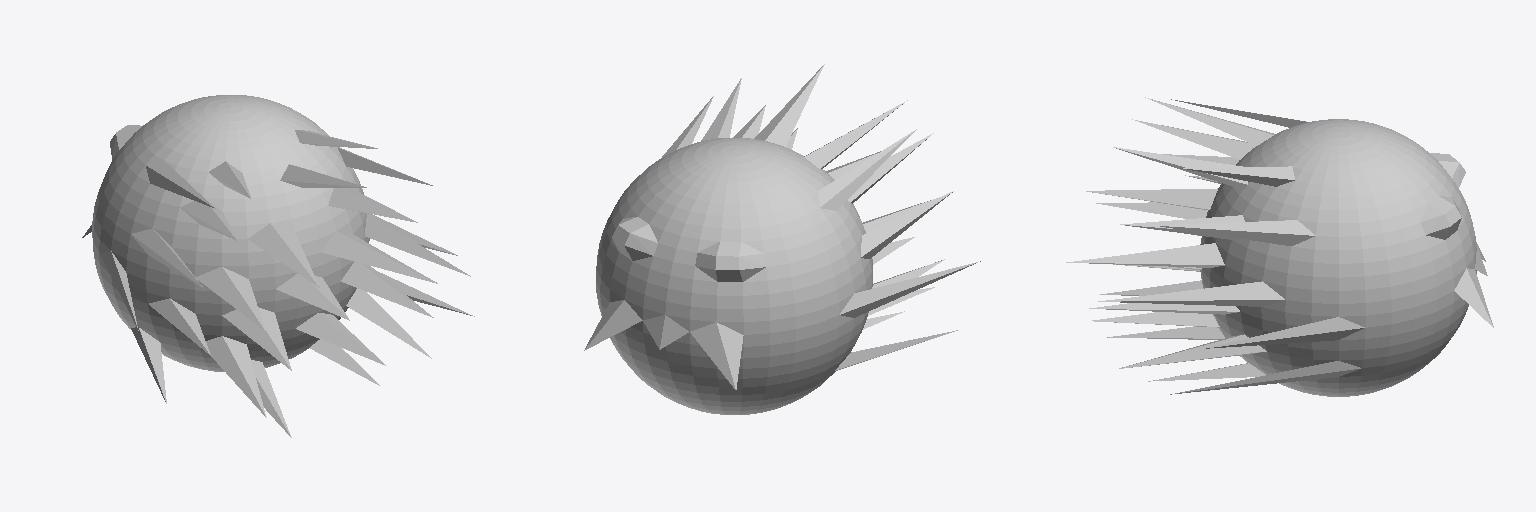
The model's file is Fast Enemy.obj.
3 views of the same model, side by side, from view 1: azimuth 30°, elevation 25°; view 2: azimuth 150°, elevation 25°; view 3: azimuth 270°, elevation 25° (orthographic).
Parts seen in each view (by area): view 1: Sphere; view 2: Sphere; view 3: Sphere.
Boxes of the visible parts, <box> form: Sphere: <box>82,95,474,437</box>; Sphere: <box>584,64,980,414</box>; Sphere: <box>1066,97,1493,396</box>.
Bounding box in the file's own units: 2.74 × 2 × 3.08.